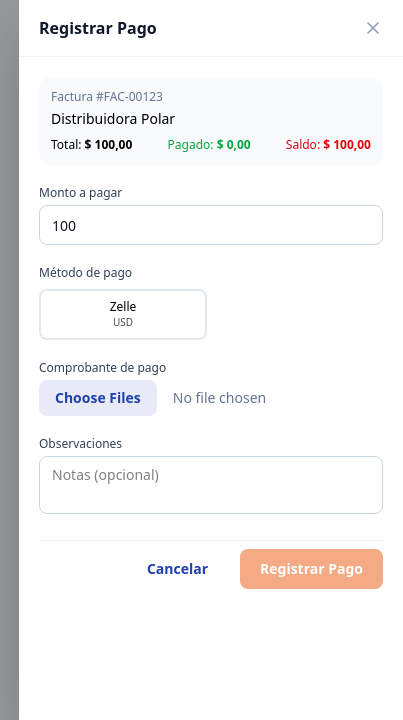
it: PaymentDrawer › shows error and disables submit when amount exceeds remaining balance
Check: the text "Zelle" is shown, box [110,298,136,315]
Replace the text in the number field showing "100" with "150" at (211, 225), box [39,205,383,245]
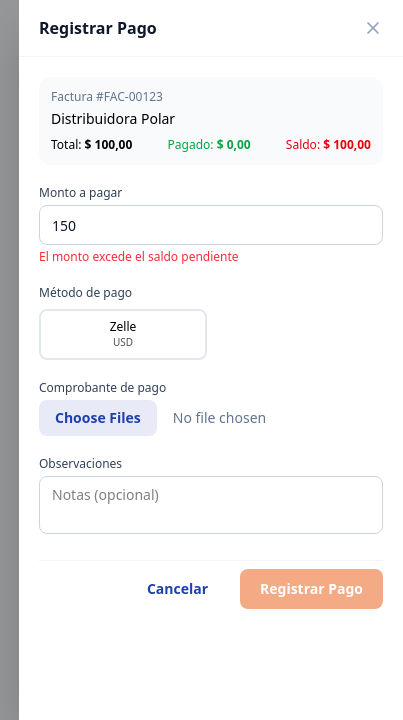
Check: the button "Registrar Pago" is disabled, box [240,569,383,609]
Check: the text "El monto excede el saldo pendiente" is shown, box [39,248,239,265]
